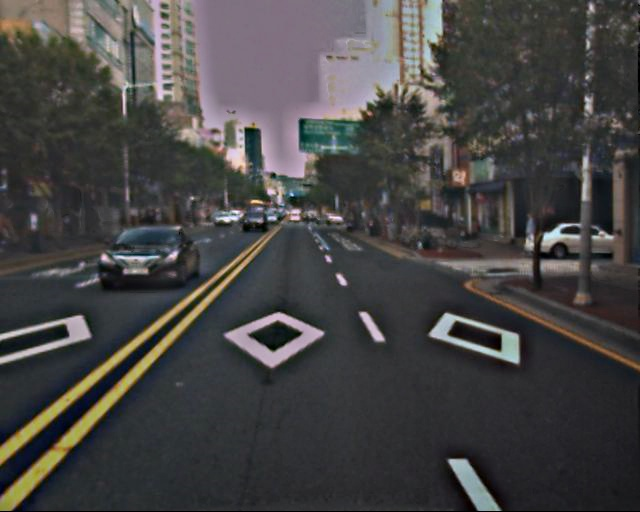person: (521, 212, 544, 267), (25, 208, 45, 257)
